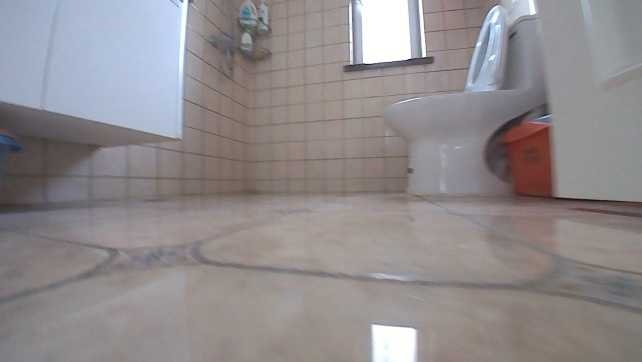toilet: (381, 1, 545, 195)
